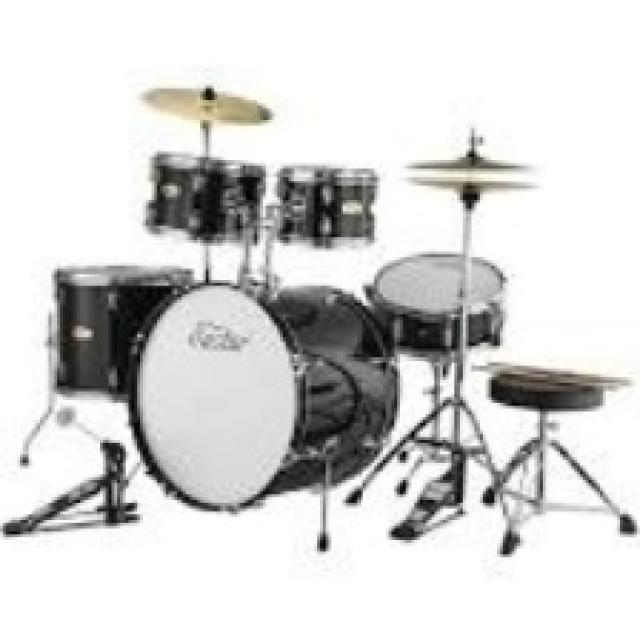drums: (29, 82, 632, 552)
